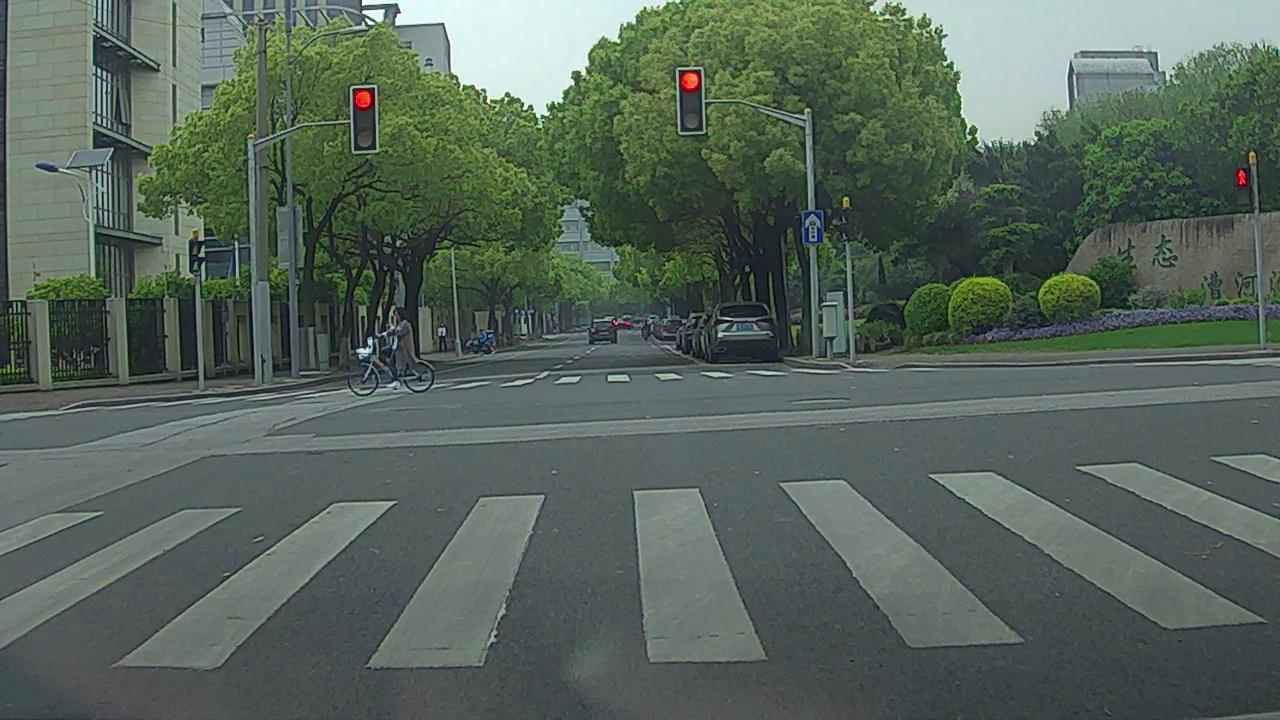traffic_light: (678, 69, 705, 131), (352, 89, 377, 150)
